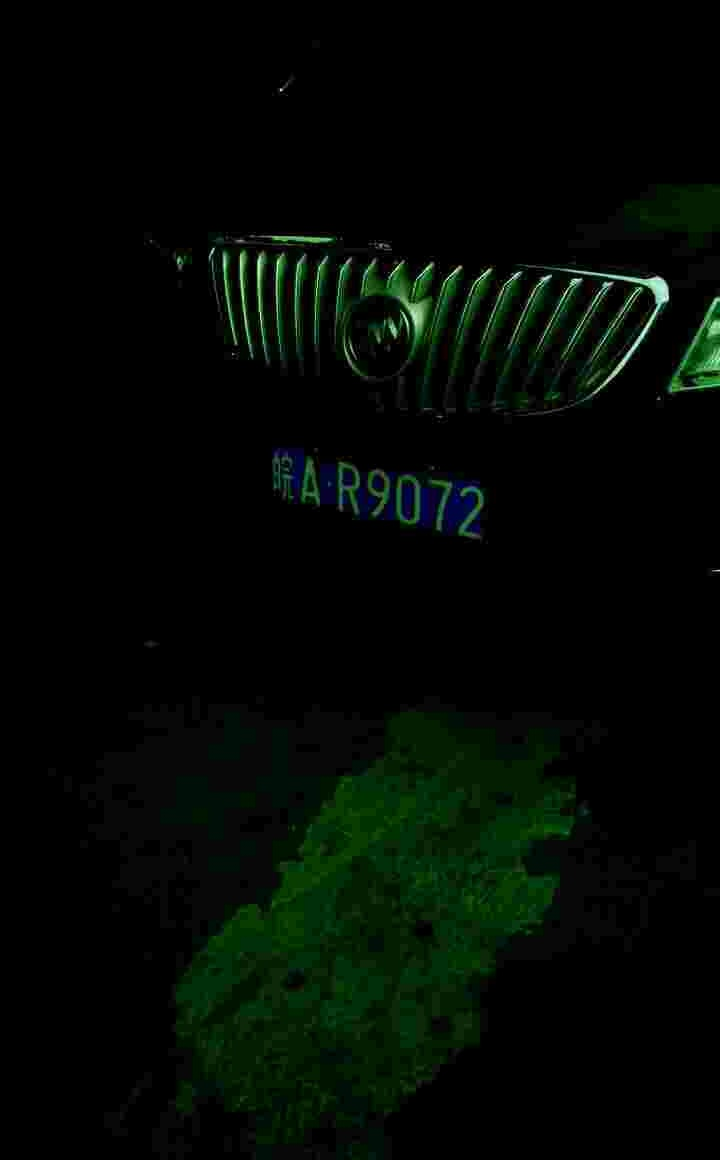plate: (261, 429, 496, 558)
